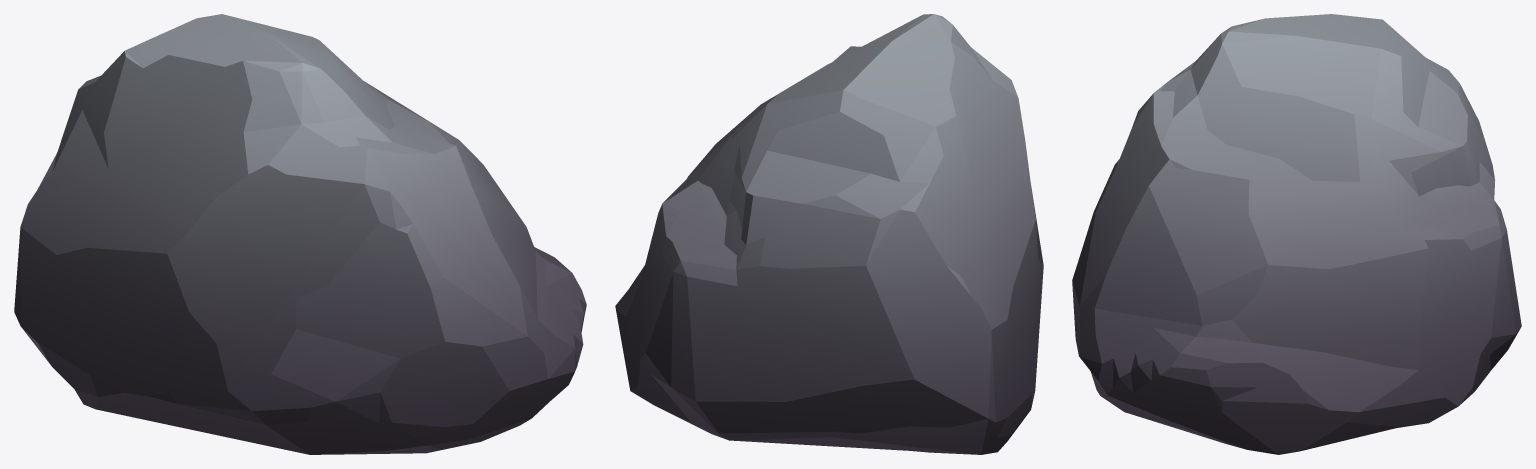
Rendered from rock_2_04.fbx.
3 views of the same model, side by side, from view 1: azimuth 30°, elevation 25°; view 2: azimuth 150°, elevation 25°; view 3: azimuth 270°, elevation 25° (orthographic). The views are drawn at different scales.
Parts seen in each view (by area): view 1: rock_2_04; view 2: rock_2_04; view 3: rock_2_04.
Boxes of the visible parts, x1,y1,x2,y2 form: rock_2_04: [14, 14, 586, 454]; rock_2_04: [615, 14, 1043, 454]; rock_2_04: [1072, 14, 1521, 454].
Bounding box in the file's own units: 79.53 × 67.57 × 81.9.
